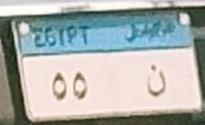5: (71, 69, 91, 102), (49, 70, 68, 104)
noon: (144, 60, 168, 100)
